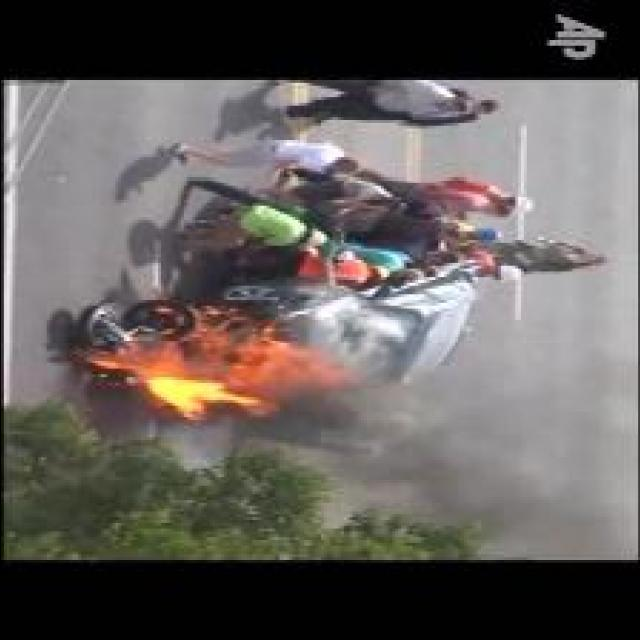Fire: (89, 310, 362, 424)
